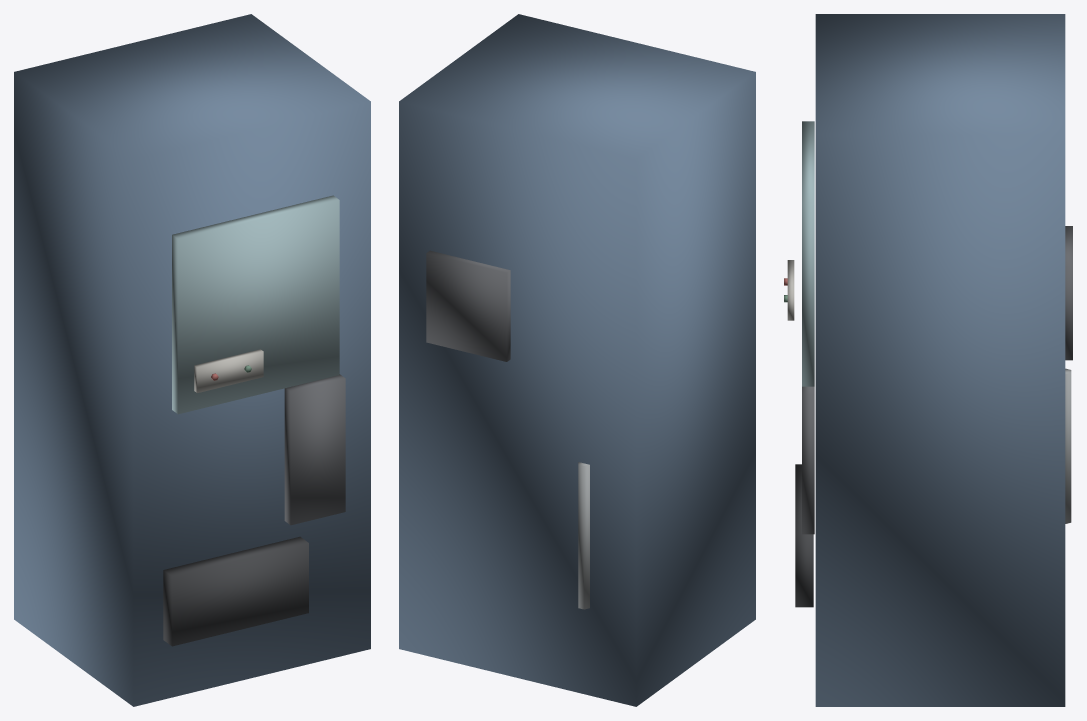
File: drink_vending_machine__service.glb
3 renders of one model, left to right at view 1: azimuth 30°, elevation 25°; view 2: azimuth 150°, elevation 25°; view 3: azimuth 270°, elevation 25°, orthographic. The views are drawn at different scales.
Parts seen in each view (by area): view 1: world; view 2: world; view 3: world.
Boxes of the visible parts, <box> form: world: <box>14,14,370,706</box>; world: <box>399,14,755,706</box>; world: <box>784,14,1072,706</box>.
Size of the model in its own units: 0.78 by 1.72 by 0.7871.
